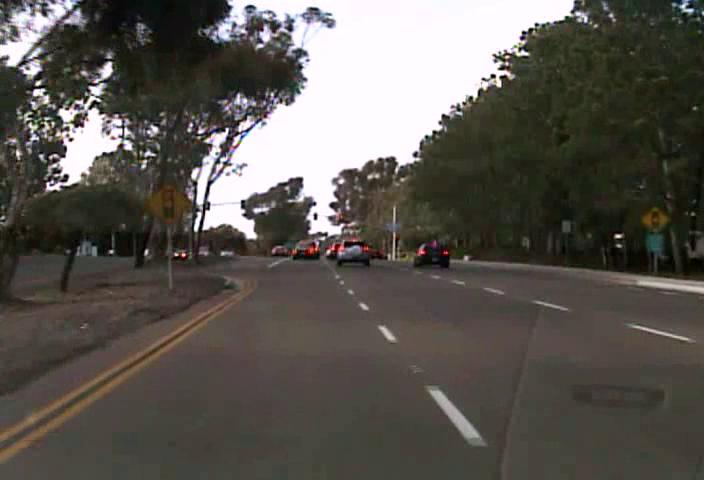signalAhead: (640, 205, 670, 235)
